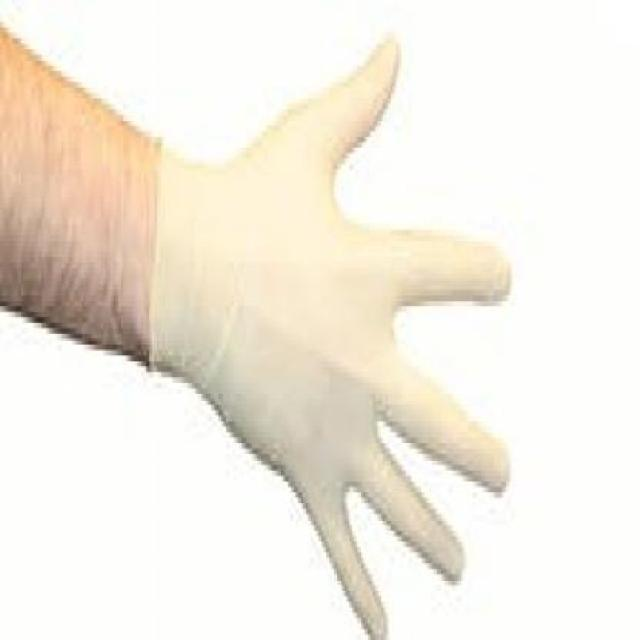glove_hand: (146, 33, 522, 635)
